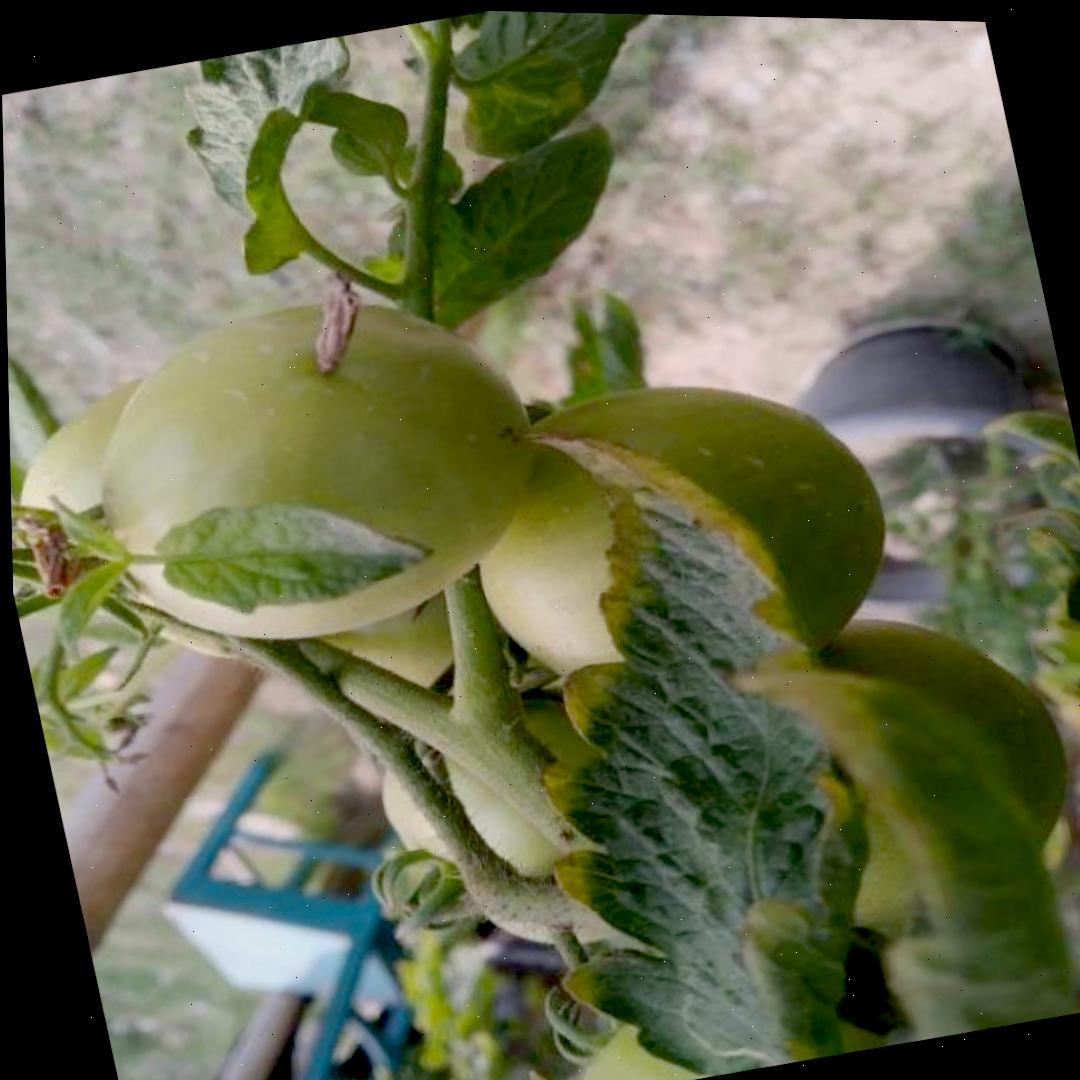mentah: (55, 262, 570, 681), (436, 337, 919, 732)
